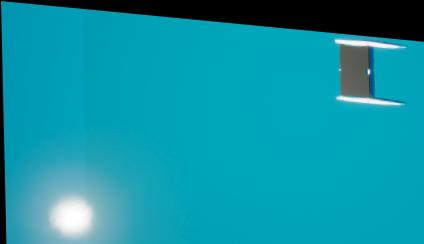boat: (328, 25, 410, 103)
drone: (337, 37, 368, 89)
land_base: (9, 159, 131, 244)
